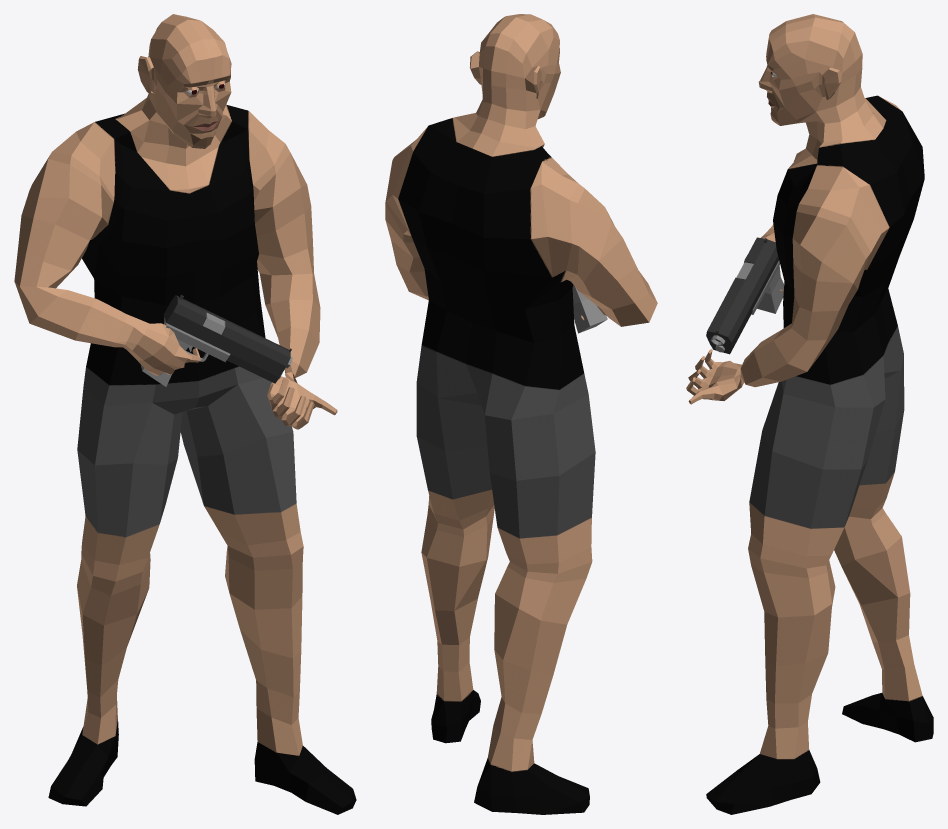
Rendered from PlayerIdle(13).obj.
The picture shows the model from 3 angles, left to right: view 1: azimuth 30°, elevation 25°; view 2: azimuth 150°, elevation 25°; view 3: azimuth 270°, elevation 25°; orthographic projection. The views are drawn at different scales.
Visible parts, largest first — view 1: Plane002, Box003; view 2: Plane002, Box003; view 3: Plane002, Box003.
Boxes of the visible parts, x1,y1,x2,y2 form: Plane002: [14, 14, 356, 814]; Box003: [140, 295, 292, 386]; Plane002: [385, 14, 657, 814]; Box003: [572, 285, 607, 333]; Plane002: [686, 14, 933, 814]; Box003: [706, 237, 784, 354].
Bounding box in the file's own units: 676 × 1808 × 548.
